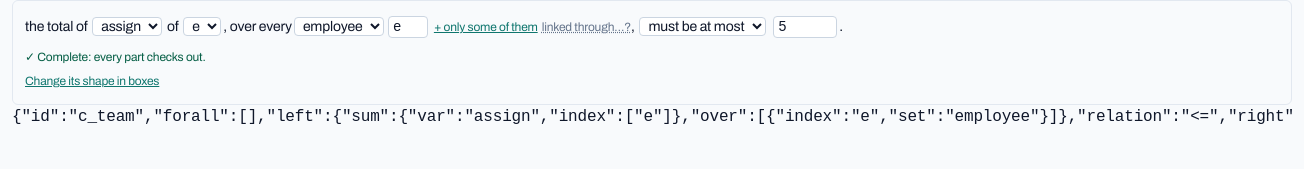
Test case: walks along a relationship (a hierarchy) › says why no link is offered, where the model has one that could reach the set
Click the button with aria-label "Why no link: left side: runs over: set 1". click: [586, 27]
box: [542,19,631,35]
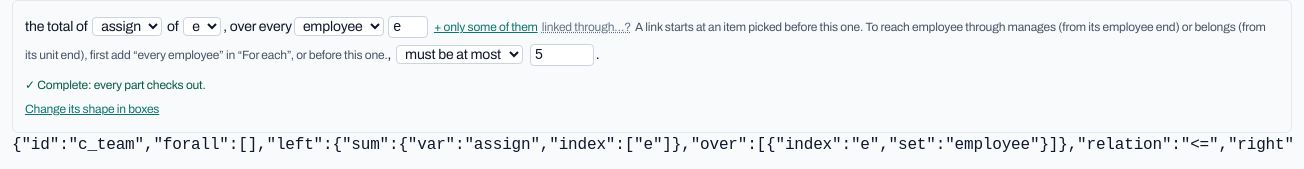
Check: the text "A link starts at an item picked before this one. To reach employee through manages (from its employee end)" is shown, box [25,20,1266,62]
